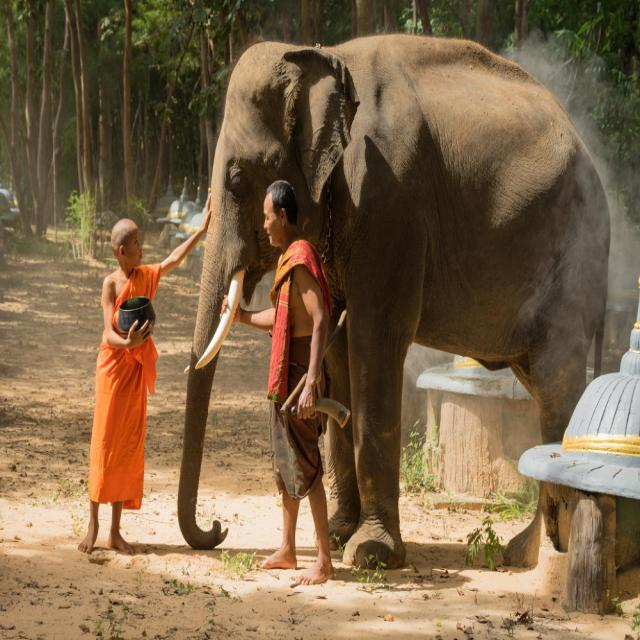Elephant: (170, 2, 633, 570)
